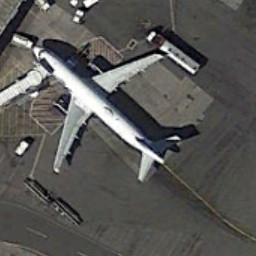Airplane: (28, 33, 187, 185)
